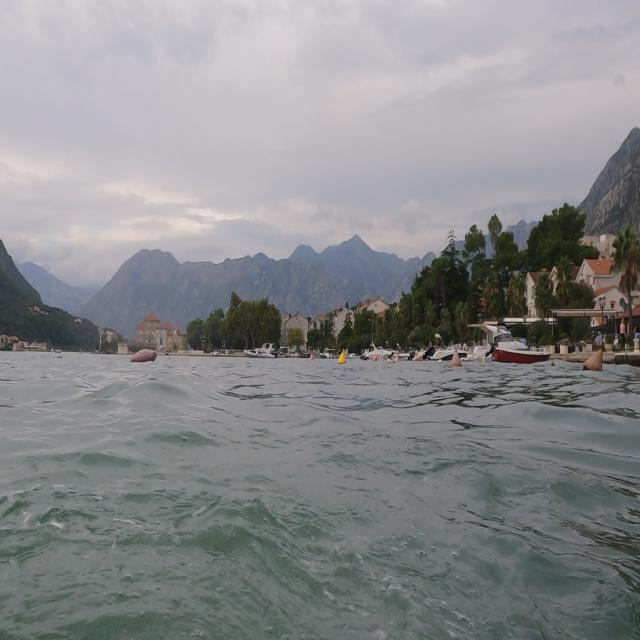boat: (234, 322, 317, 367), (365, 332, 439, 372), (489, 328, 552, 366)
buoy: (126, 346, 166, 374), (582, 346, 609, 386), (335, 348, 353, 374), (450, 346, 465, 371)
